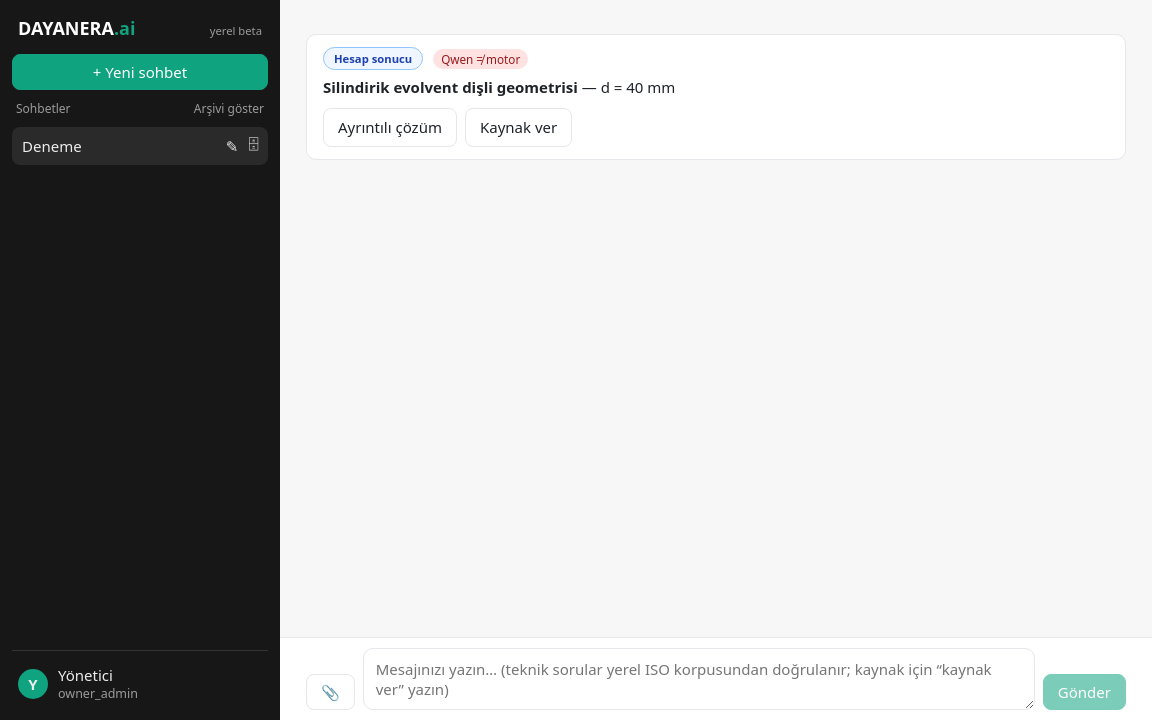
Scenario: Sohbet › hesap sonucunda "Ayrıntılı çözüm" ile formül, birim ve kaynak izini gösterir
Expected: the text with test id "mode-badge" reads "Hesap sonucu", [334,51,412,66]
Expected: the text "Qwen ≠ motor" is shown, [433,49,528,69]
Click the button "Ayrıntılı çözüm" at coordinates (390, 127), box [323,108,457,147]
(page scrolled)
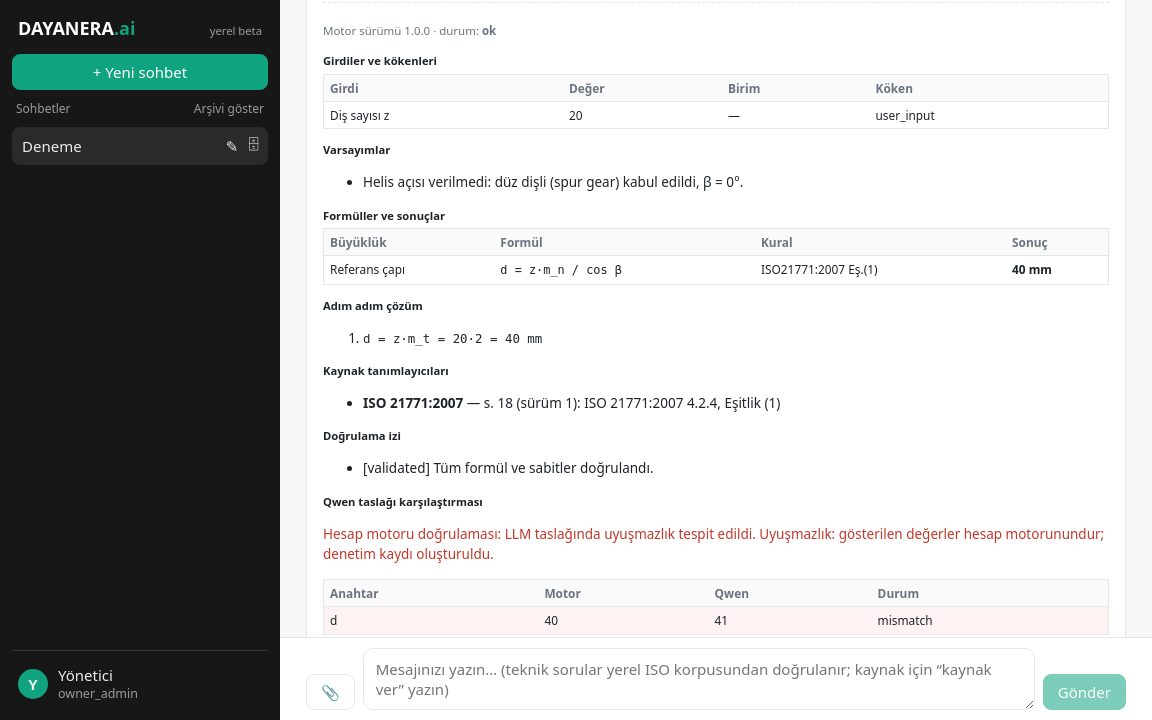
Expected: the element with test id "calc-detail" shows "d = z·m_n / cos β", [500,263,622,277]
Expected: the element with test id "calc-detail" shows "ISO 21771:2007", [363,394,463,412]
Expected: the element with test id "calc-detail" shows "s. 18", [484,394,513,412]
